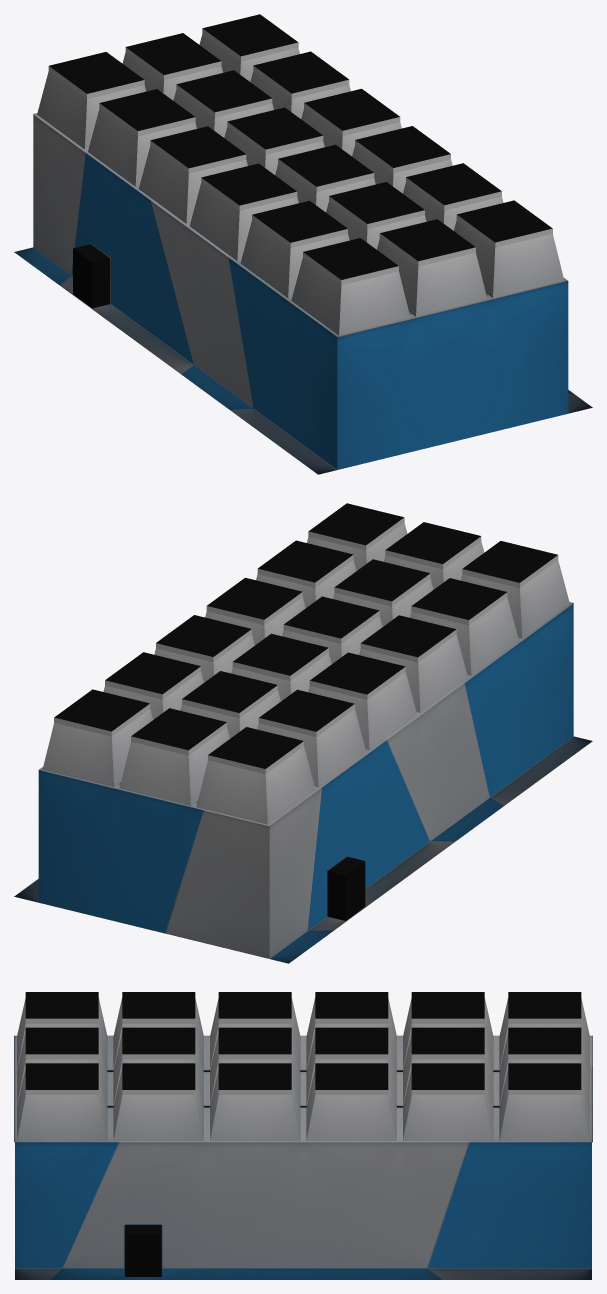
File: gallery_room.dae
The picture shows the model from 3 angles, top to bottom: view 1: azimuth 30°, elevation 25°; view 2: azimuth 150°, elevation 25°; view 3: azimuth 270°, elevation 25°; orthographic projection. The views are drawn at different scales.
Visible parts, largest first — view 1: VR_Gallery_001; view 2: VR_Gallery_001; view 3: VR_Gallery_001.
Boxes of the visible parts, box(x1,y1,x2,y2) form: VR_Gallery_001: box(14, 14, 592, 474); VR_Gallery_001: box(14, 503, 592, 963); VR_Gallery_001: box(14, 992, 592, 1279).
Bounding box in the file's own units: 11.76 × 22.62 × 7.5.
1 material, 1 textured.
